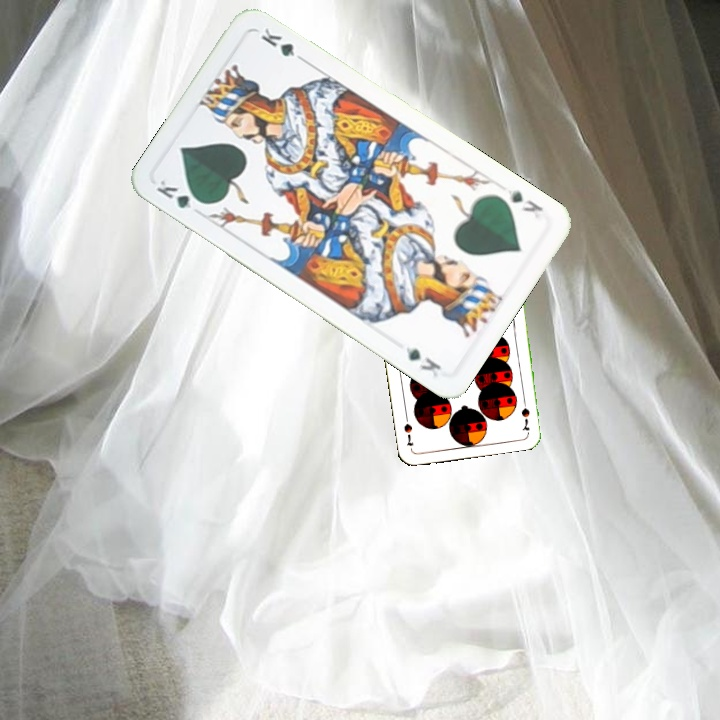GK: (152, 175, 209, 212), (503, 185, 546, 215)
S7: (517, 393, 533, 433)
